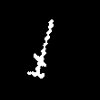double_crochet: (27, 20, 52, 77)
